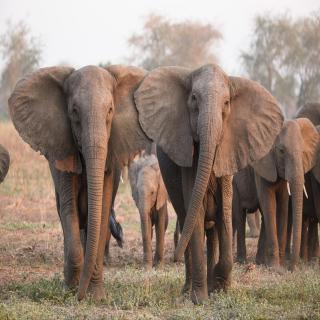Elephant: (133, 50, 287, 304), (7, 58, 165, 302), (233, 110, 320, 279), (125, 145, 185, 282)
